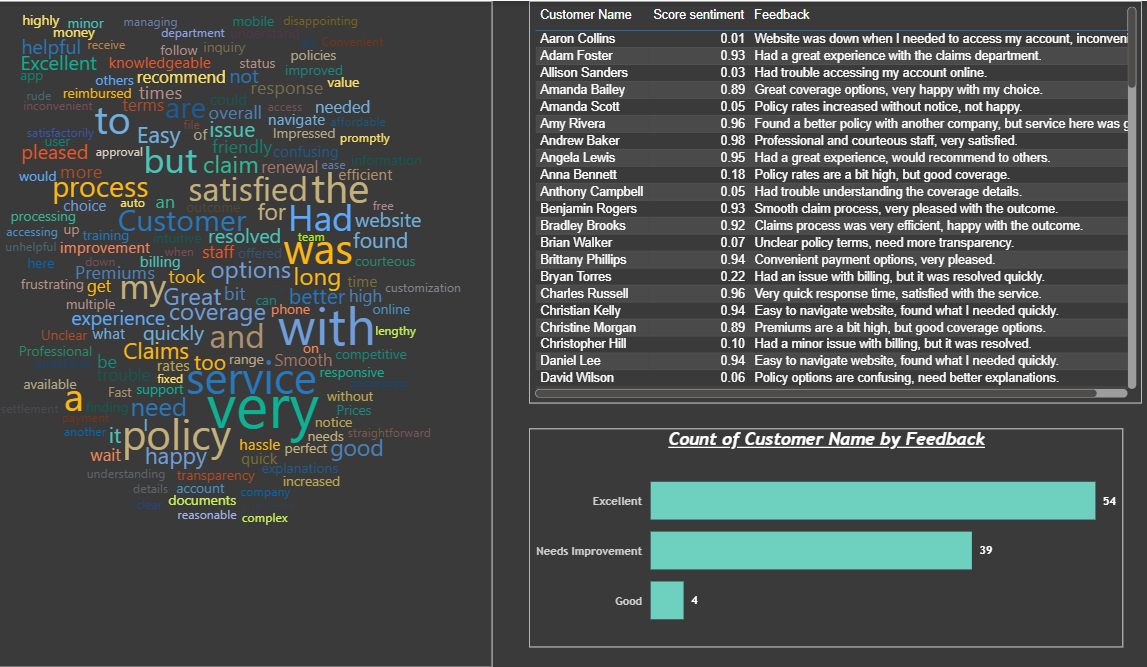

This screenshot's page, from the dashboard's own definition file:
{"tool":"powerbi","page":{"name":"Page 3","canvas":[1280,720],"ordinal":2},"visuals":[{"type":"WordCloud1447959067750","fields":{"Category":["Sheet1.Feedback"],"Values":["CountNonNull(Sheet1.Feedback)"]},"box":[10,0,543.3,706.7],"z":0},{"type":"barChart","title":"Count of Customer Name by Feedback","fields":{"Category":["Sheet1.Good/Improvement"],"Y":["CountNonNull(Sheet1.Customer Name)"]},"box":[591.7,453.3,630,231.7],"z":1000},{"type":"tableEx","fields":{"Values":["Sheet1.Customer Name","Sheet1.Score sentiment","Sheet1.Feedback"]},"box":[591.7,0,650,426.7],"z":2000}]}

Visuals, with their boxes on the page's 1280x720 design canvas (x1, y1, x2, y2). These are canvas units, not pixel positions in the 1147x667 screenshot, which may show the page scaled, cropped or inside an application window:
WordCloud1447959067750 - Sheet1.Feedback x CountNonNull(Sheet1.Feedback): 10, 0, 553, 707
"Count of Customer Name by Feedback" barChart: 592, 453, 1222, 685
tableEx - Sheet1.Customer Name x Sheet1.Score sentiment: 592, 0, 1242, 427
